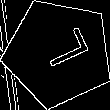L_SW: (29, 28, 88, 77)
